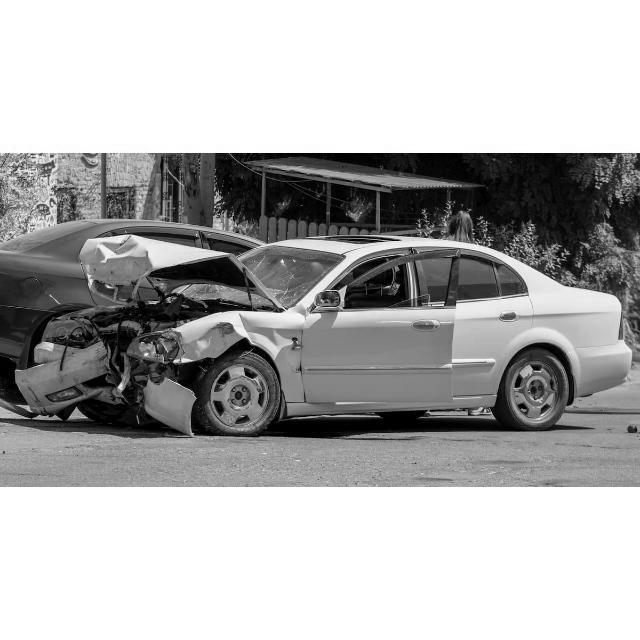Front-windscreen-damage: (217, 253, 334, 308)
Headlight-damage: (132, 333, 188, 366), (42, 317, 93, 351)
bonnet-dent: (82, 244, 277, 323)
fender-dent: (189, 311, 297, 381)
front-bumper-dent: (24, 343, 209, 435)
